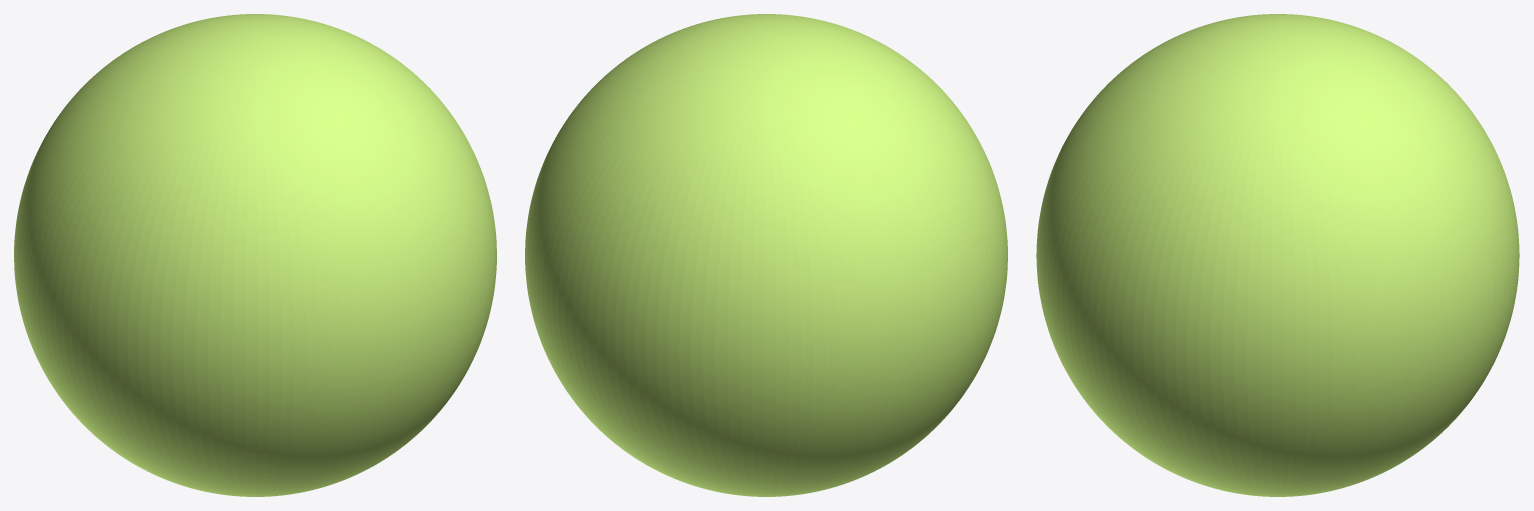
The model's file is pwr3.fbx.
3 renders of one model, left to right at view 1: azimuth 30°, elevation 25°; view 2: azimuth 150°, elevation 25°; view 3: azimuth 270°, elevation 25°, orthographic.
Visible parts, largest first — view 1: Sphere; view 2: Sphere; view 3: Sphere.
Boxes of the visible parts, x1=… form: Sphere: x1=14, y1=14, x2=496, y2=496; Sphere: x1=525, y1=14, x2=1007, y2=496; Sphere: x1=1036, y1=14, x2=1519, y2=496.
Bounding box in the file's own units: 200 × 200 × 200.
